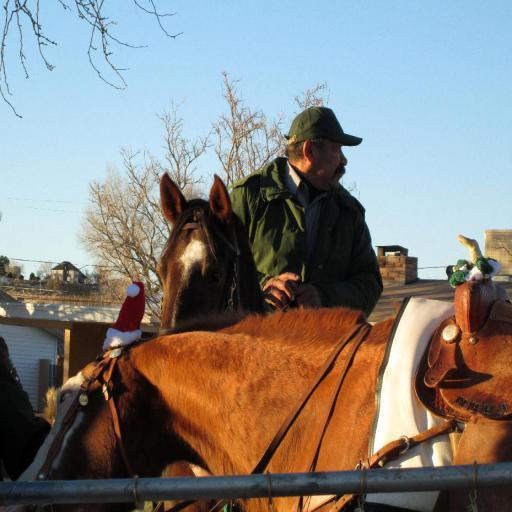horse: (0, 278, 512, 512), (150, 167, 300, 512)
